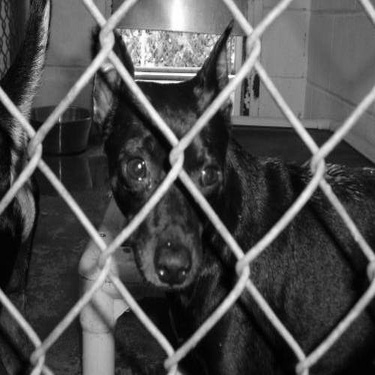dog: (70, 10, 370, 371), (1, 8, 55, 373)
